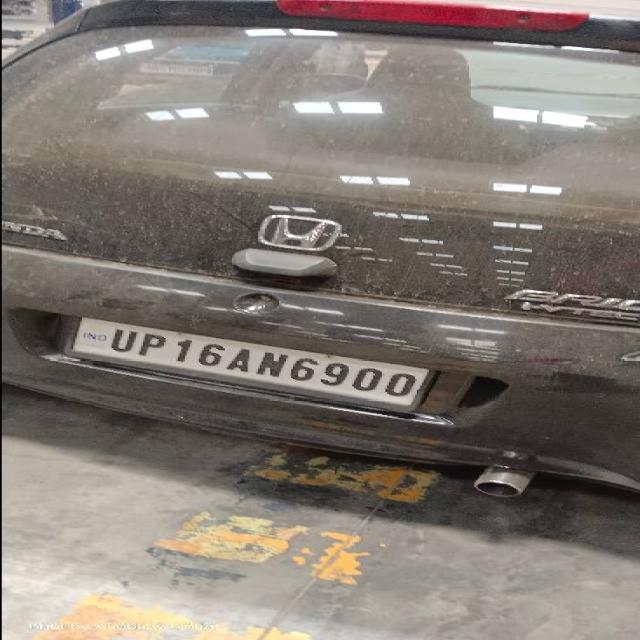license_plate: (59, 314, 440, 413)
